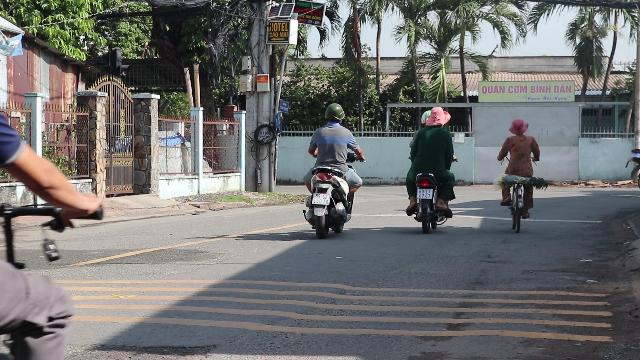helmet: (324, 103, 344, 125)
licenseplate: (312, 193, 330, 205), (418, 189, 432, 199)
motorcyclist: (301, 102, 364, 238), (401, 106, 457, 231)
nohelmet: (424, 106, 451, 128)
